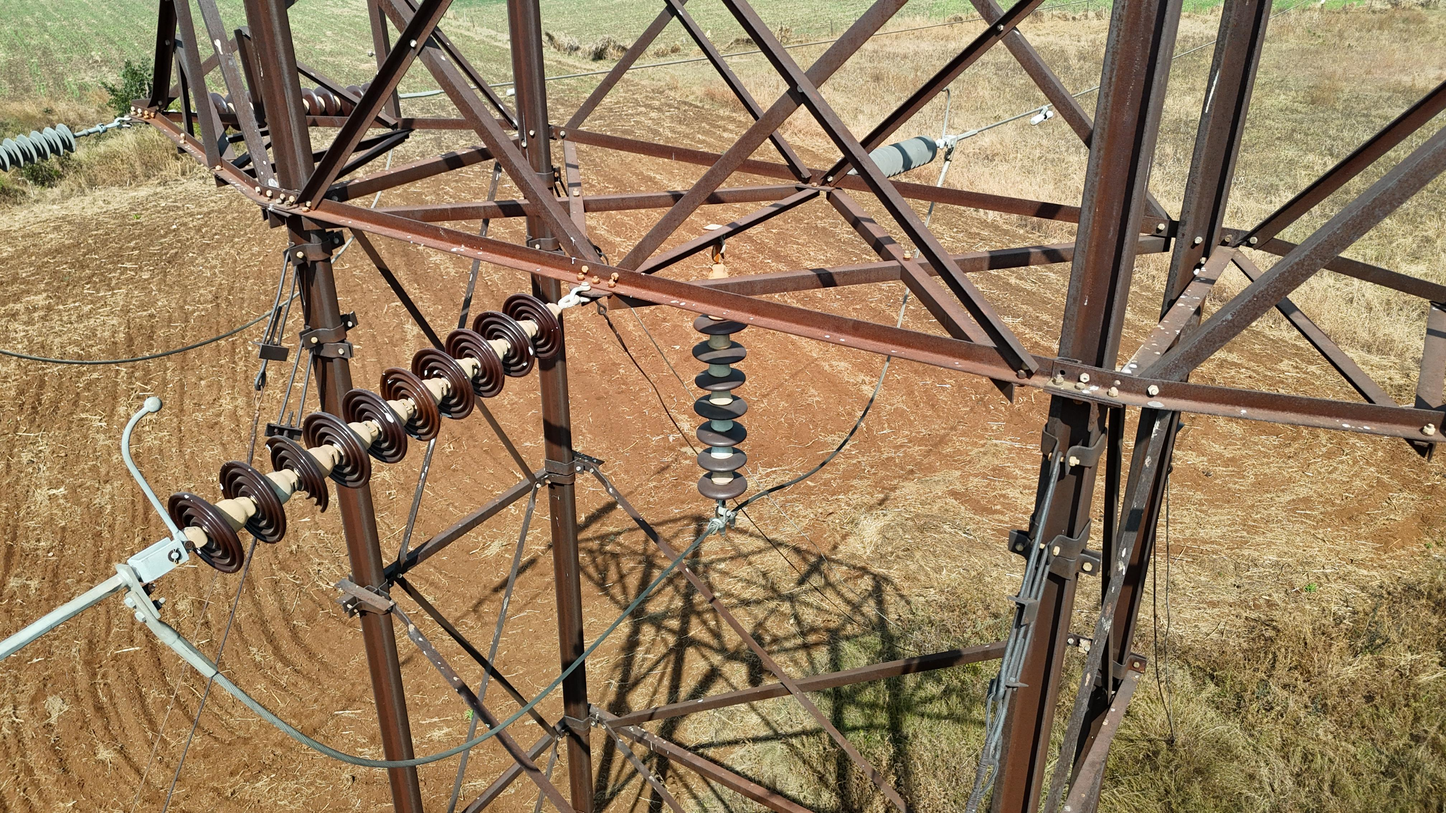broken_insulator: (218, 461, 286, 542), (264, 434, 330, 514), (344, 389, 409, 460), (411, 349, 475, 420), (380, 367, 441, 441), (472, 312, 536, 378)
